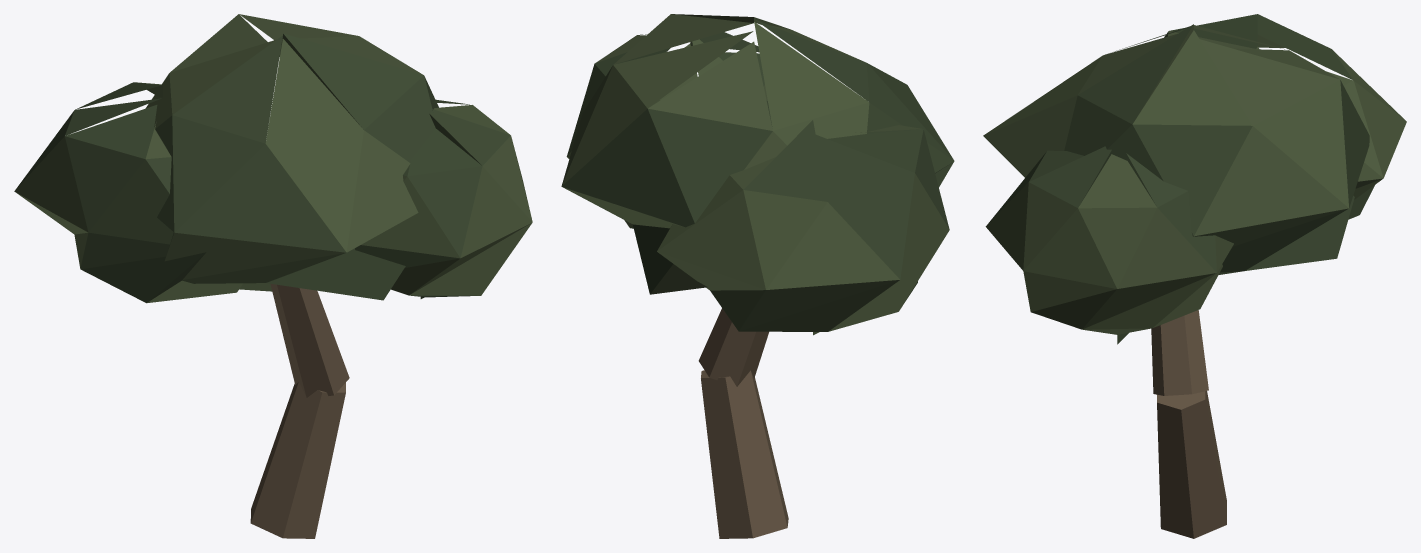
File: olive.glb
3 views of the same model, side by side, from view 1: azimuth 30°, elevation 25°; view 2: azimuth 150°, elevation 25°; view 3: azimuth 270°, elevation 25° (orthographic). The views are drawn at different scales.
Visible parts, largest first — view 1: olive2; view 2: olive2; view 3: olive2.
Boxes of the visible parts, x1,y1,x2,y2 form: olive2: [14, 14, 532, 538]; olive2: [561, 14, 954, 538]; olive2: [983, 14, 1406, 538].
Bounding box in the file's own units: 3.67 × 4.31 × 3.32.
